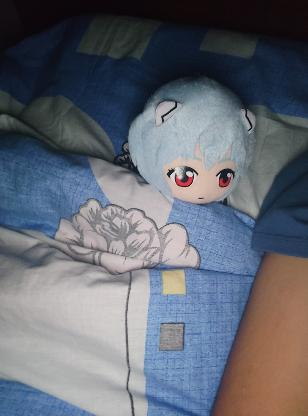rei-plush: (124, 71, 260, 218)
